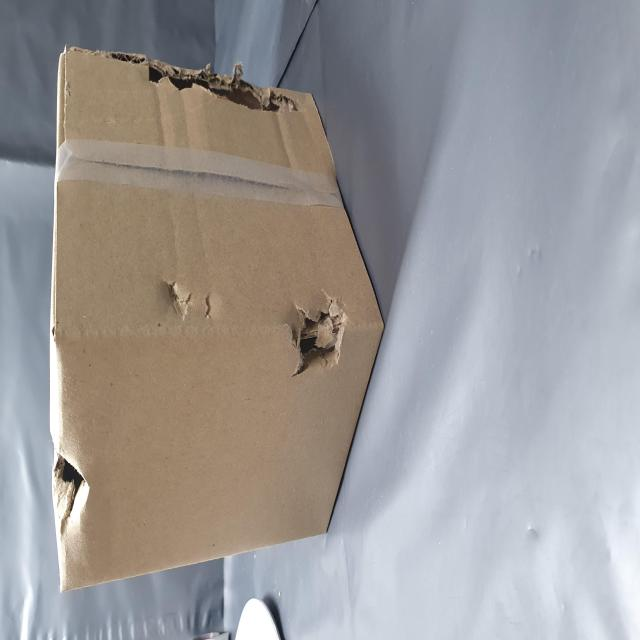damaged: (295, 192, 326, 531), (150, 502, 194, 612), (53, 99, 120, 152)
